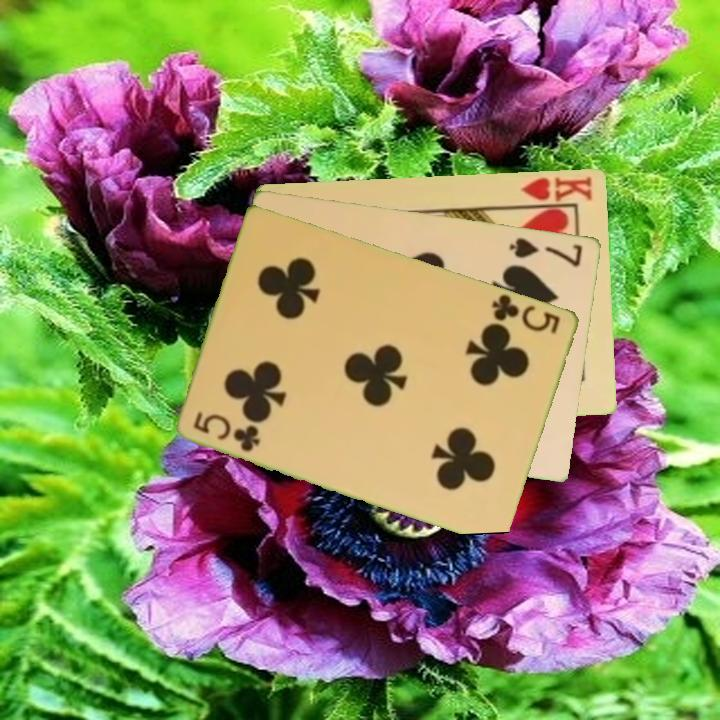5c: (489, 290, 564, 337), (190, 407, 264, 454)
7s: (506, 234, 586, 269)
Kh: (514, 172, 596, 209)
